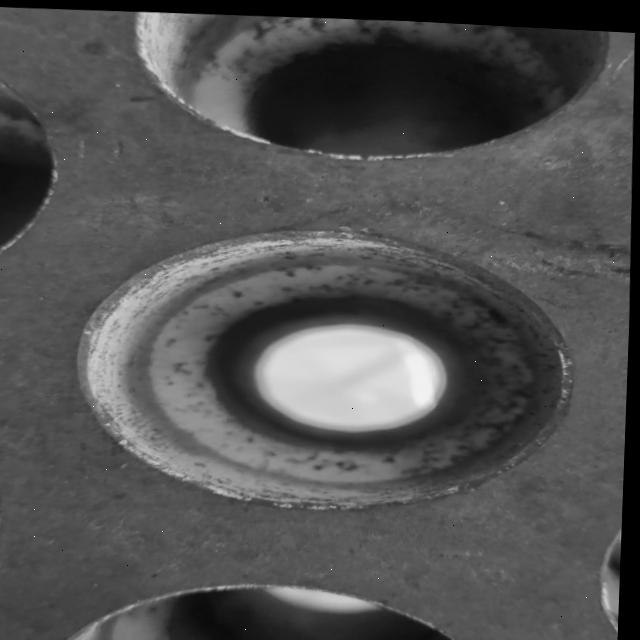Hole: (67, 209, 593, 518), (130, 5, 612, 168), (0, 562, 573, 640), (0, 46, 66, 298)
